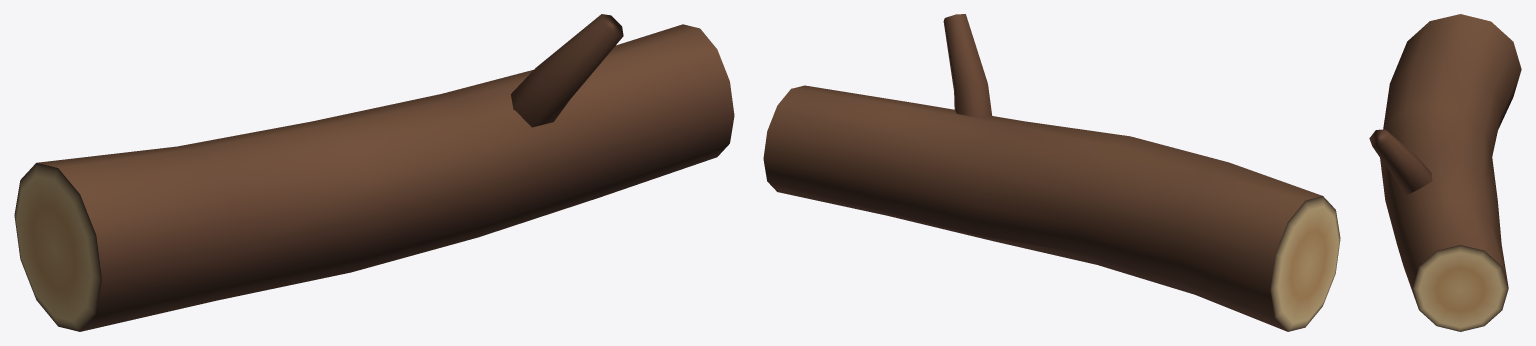
Rendered from log_1.glb.
The picture shows the model from 3 angles, left to right: view 1: azimuth 30°, elevation 25°; view 2: azimuth 150°, elevation 25°; view 3: azimuth 270°, elevation 25°; orthographic projection. The views are drawn at different scales.
Visible parts, largest first — view 1: log_1; view 2: log_1; view 3: log_1.
Part boxes in pixels (box(x1,y1,x2,y2)): log_1: box(14, 14, 734, 331); log_1: box(763, 14, 1340, 331); log_1: box(1369, 14, 1521, 331).
Size of the model in its own units: 1.92 by 0.657 by 0.5586.
